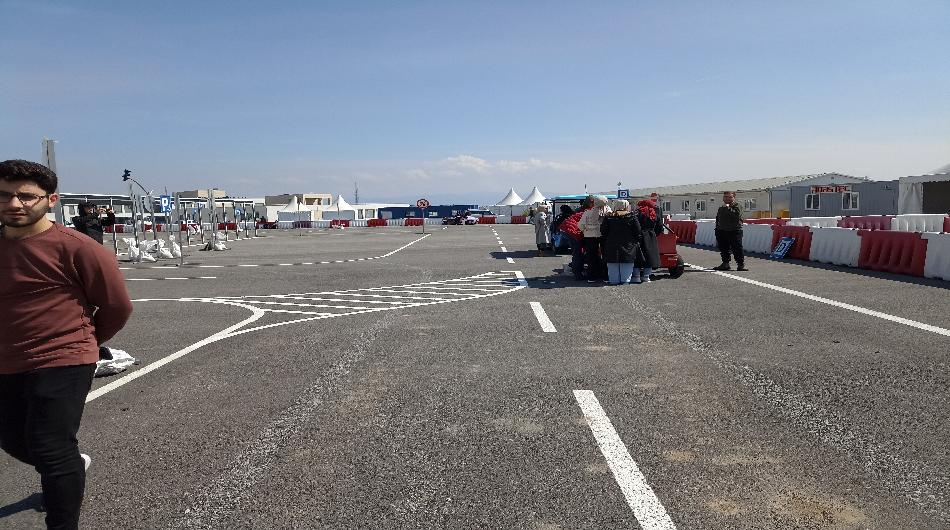yol_calismasi: (241, 266, 529, 332)
